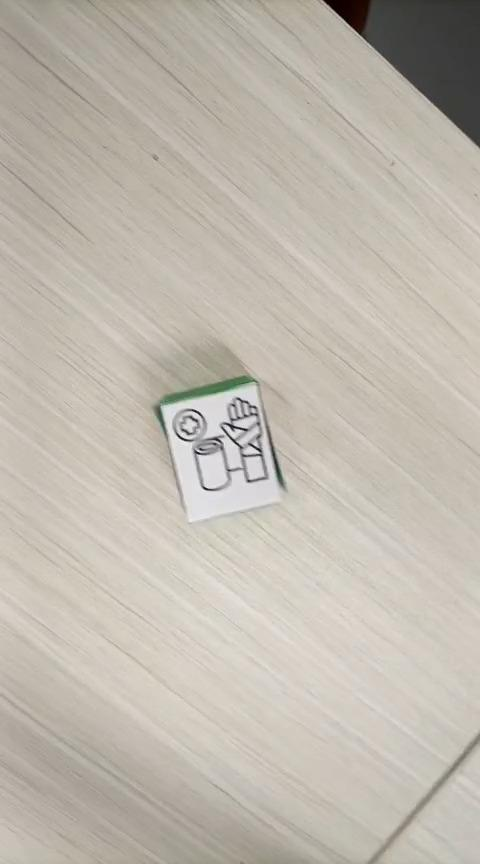Bandages: (157, 373, 286, 523)
